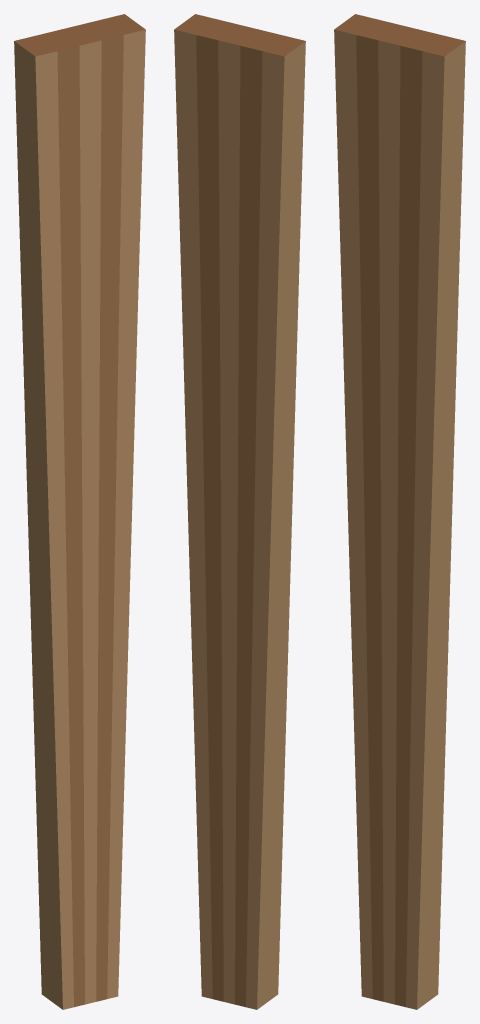
Rendered from WoodSlab.fbx.
3 renders of one model, left to right at view 1: azimuth 30°, elevation 25°; view 2: azimuth 150°, elevation 25°; view 3: azimuth 330°, elevation 25°, orthographic.
Parts seen in each view (by area): view 1: WoodSlab; view 2: WoodSlab; view 3: WoodSlab.
Part boxes in pixels (<box>): WoodSlab: <box>14,14,145,1009</box>; WoodSlab: <box>174,14,305,1009</box>; WoodSlab: <box>334,14,465,1009</box>.
Size of the model in its own units: 1.2 by 9.96 by 0.4.
Materials: 1 (1 with a texture image).
